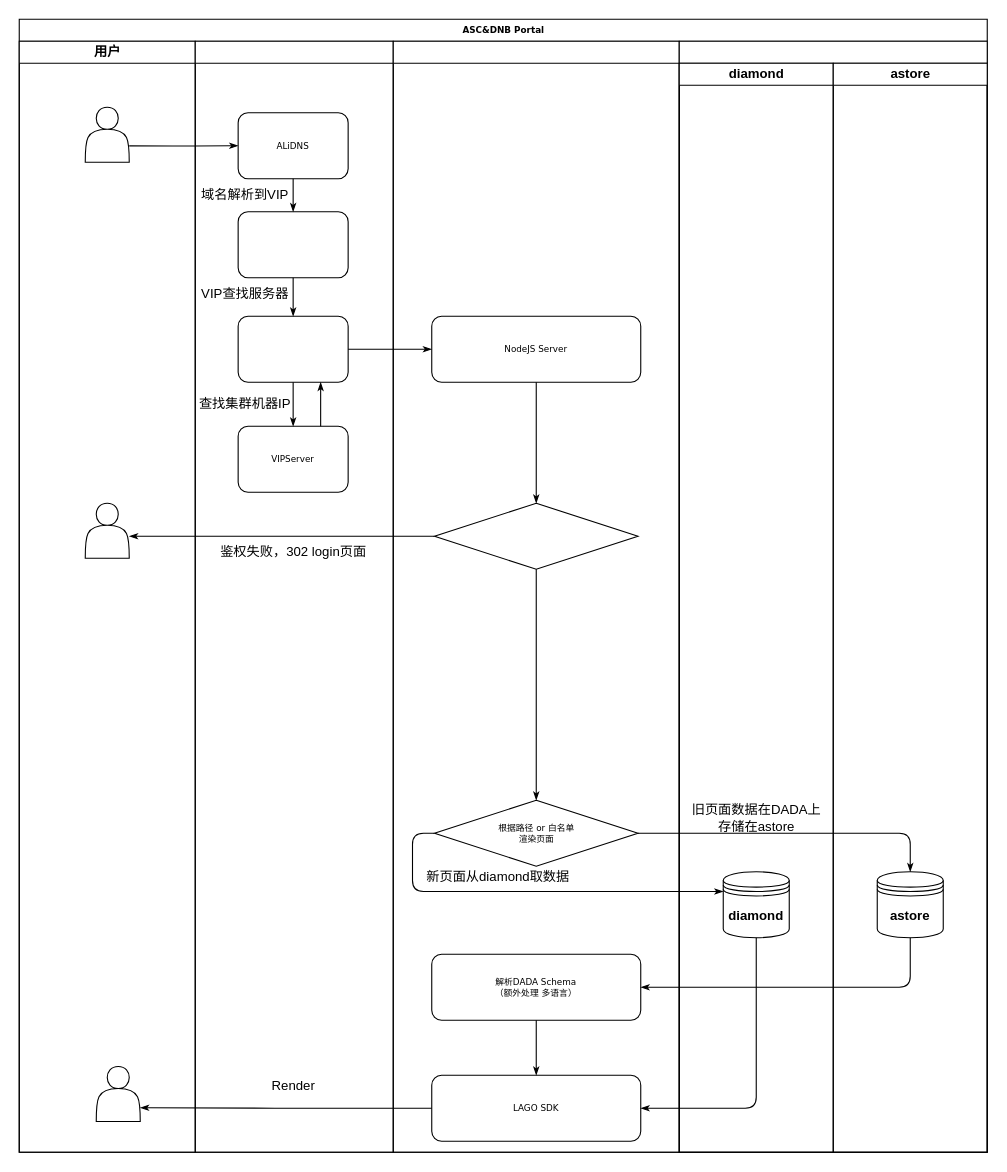
This 1007x1172 diagram has some shape labels left out. The shapes that lost their labels are listed below. From the top down, each one's box as (x1, y1, x2, y2) in pixels, then its label:
(237, 211, 348, 278): LSV DS
(237, 315, 348, 382): Aserver
(433, 502, 638, 569): SSO单点登录
(194, 40, 393, 1152): 网关层
(392, 40, 679, 1152): Server层
(678, 40, 987, 1152): 数据层
